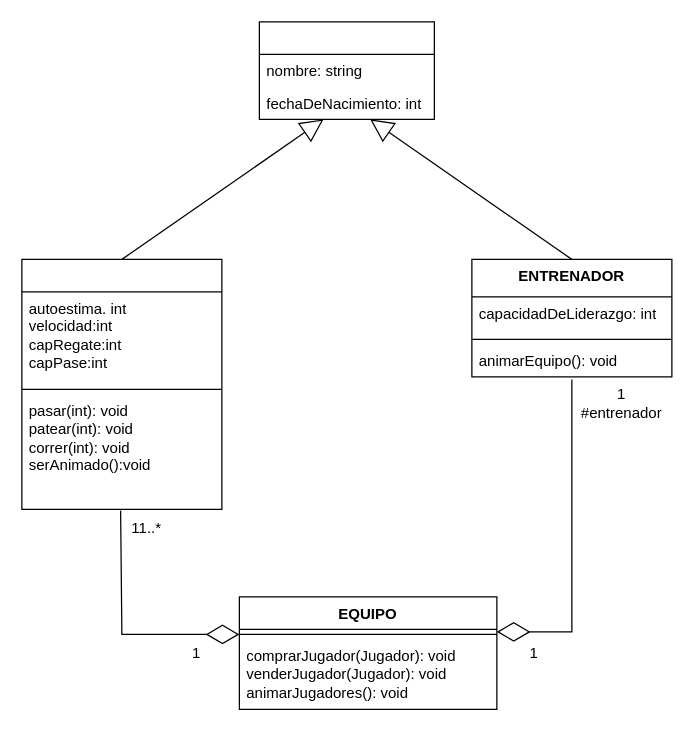
This 694x735 diagram has some shape labels left out. Each missing label, with the box of its shape:
JUGADOR: (21, 258, 222, 509)
PERSONAJE: (258, 21, 434, 119)
